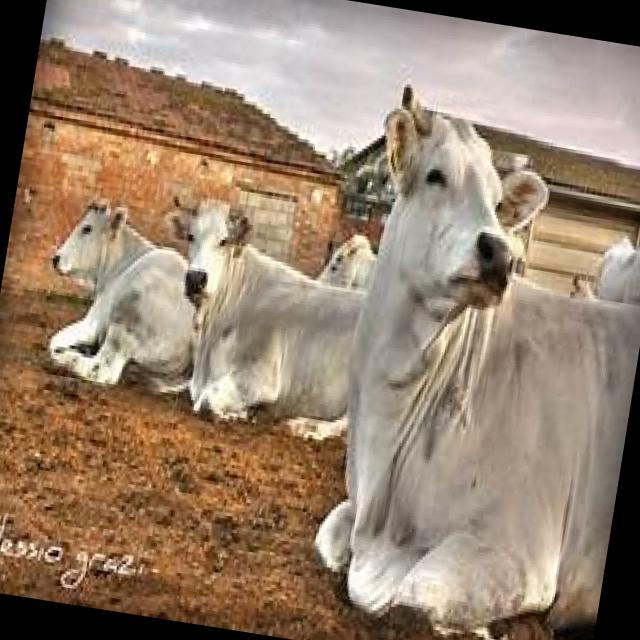cow: (301, 78, 640, 640), (132, 189, 380, 447), (32, 188, 218, 400)
